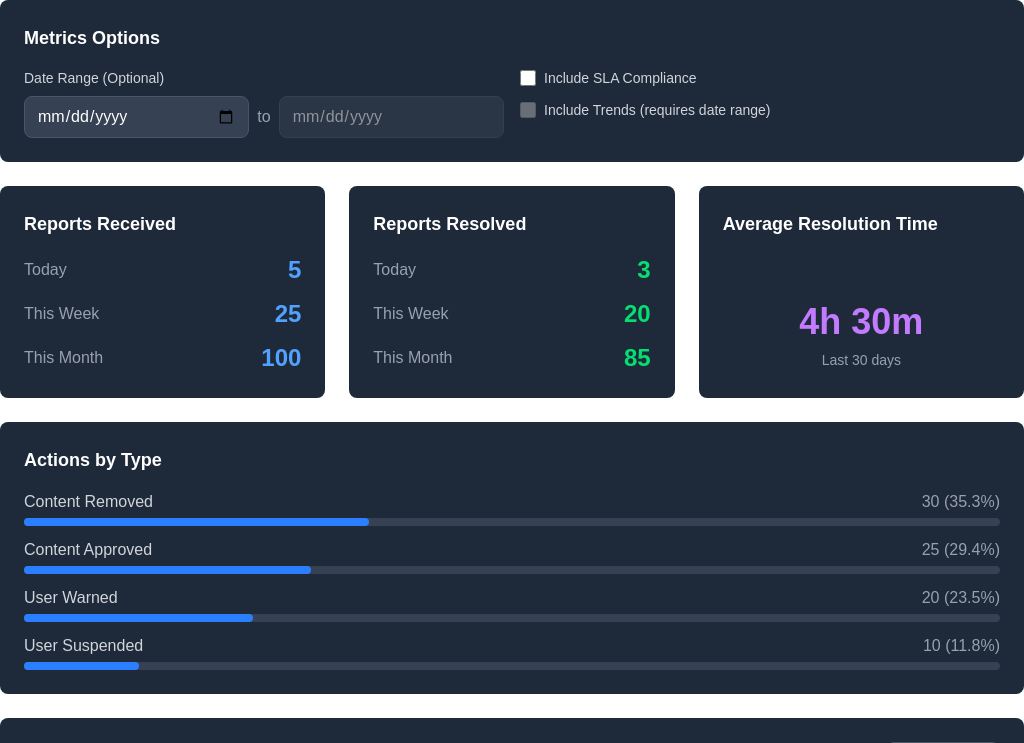
it: ModerationMetrics › SLA Compliance › should display SLA compliance when checkbox is checked
Expected: the heading "Reports Received" is shown, [24, 214, 176, 234]
// Check the SLA checkbox
Click the checkbox labelled "Include SLA Compliance". click: (528, 78)
box: [520, 70, 536, 86]
(page scrolled)
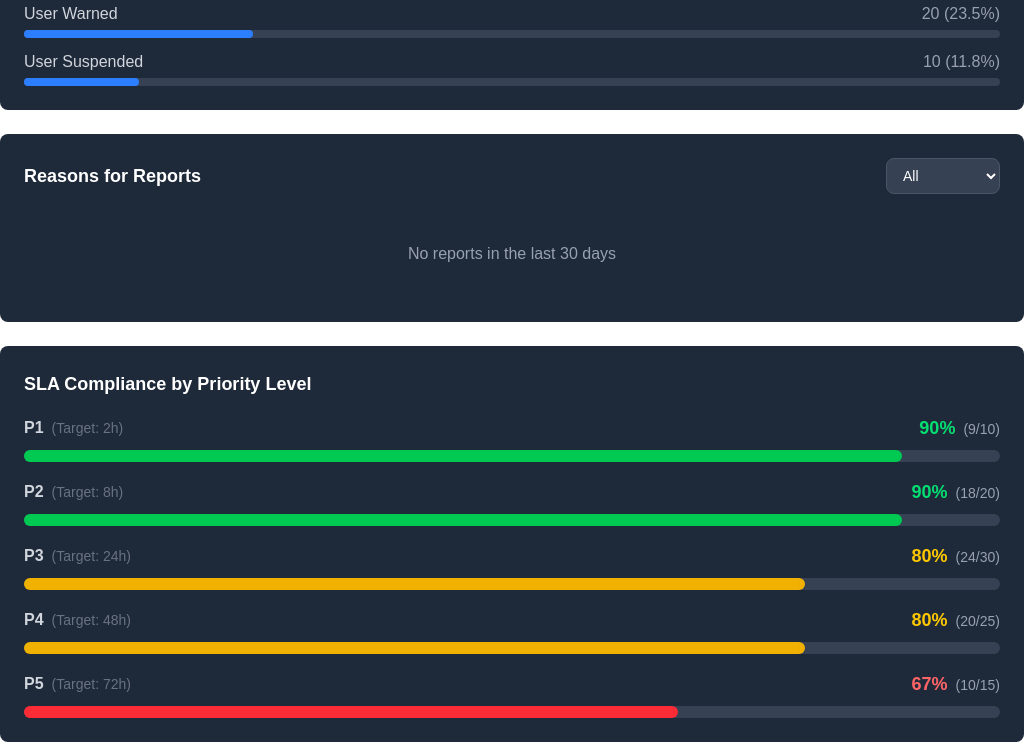
Now the heading "SLA Compliance by Priority Level" is shown, box [24, 374, 311, 394]
